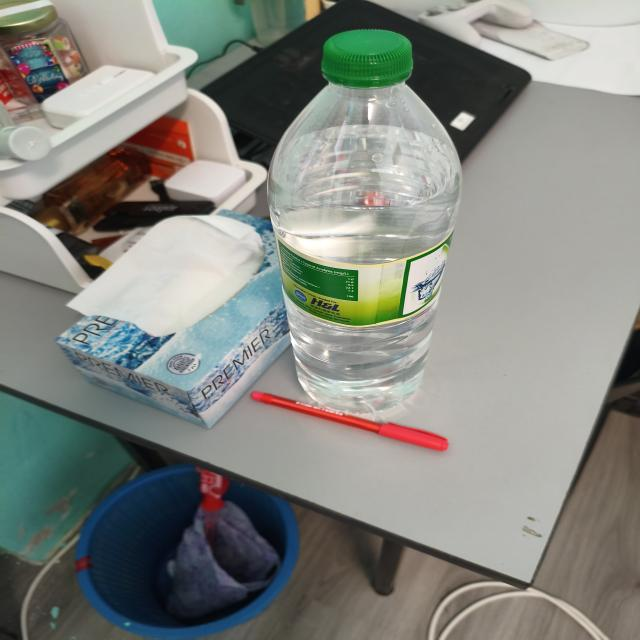pen: (251, 391, 448, 451)
